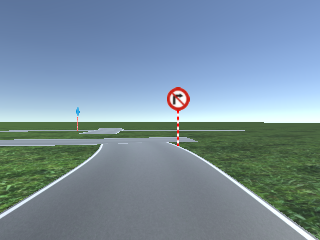-5: (1, 187, 320, 239)
NoRight: (165, 86, 189, 110)
